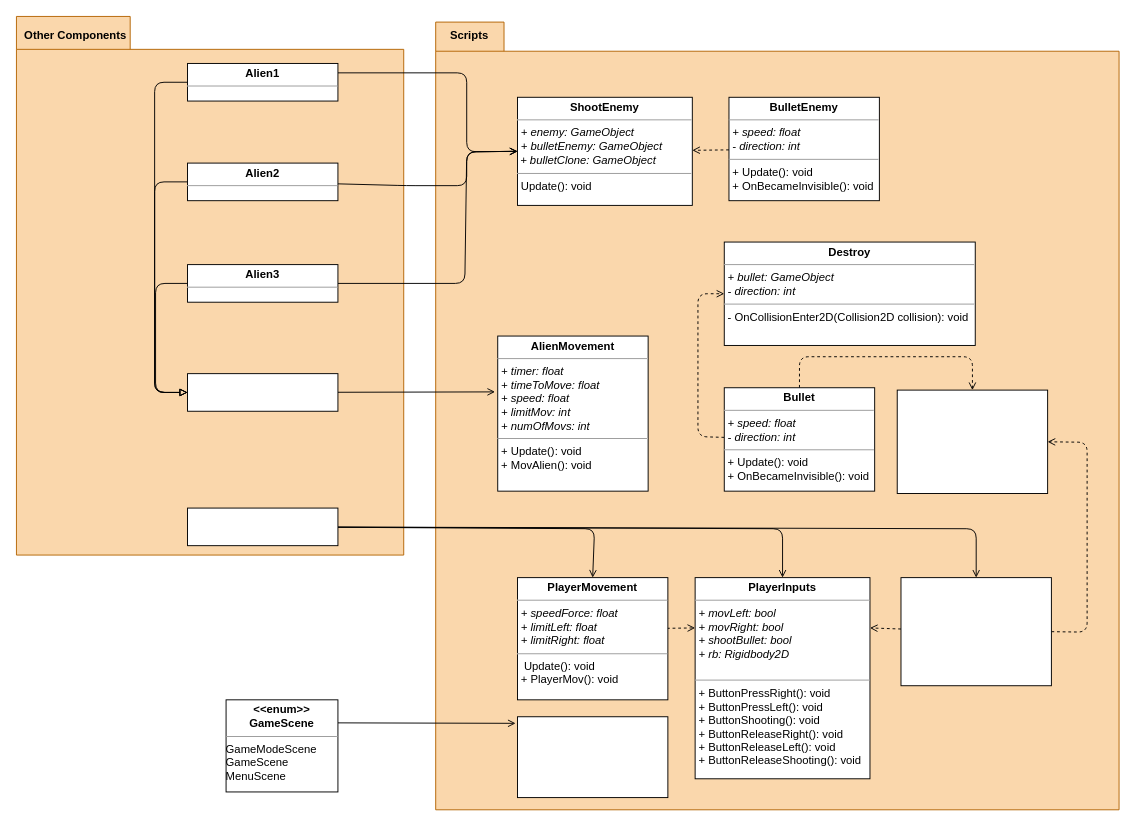
Some shapes in this 1136 by 826 pixel diagram are drawn without their labels. The shapes that lost their labels are listed below. From the top down, each one's box as (x1, y1, x2, y2) in pixels, then its label:
(187, 373, 338, 411): Aliens
(896, 389, 1048, 494): GeneratorBullet - prefab: GameObject Update(): void + OnBecameInvisible(): void
(187, 507, 338, 546): Player
(900, 577, 1051, 686): Shoot - cooldown: float - nextShoot: float Update(): void SpawnShoot(): void
(517, 716, 668, 798): SceneController + sceneIndex: int + ChangeScene(): void
